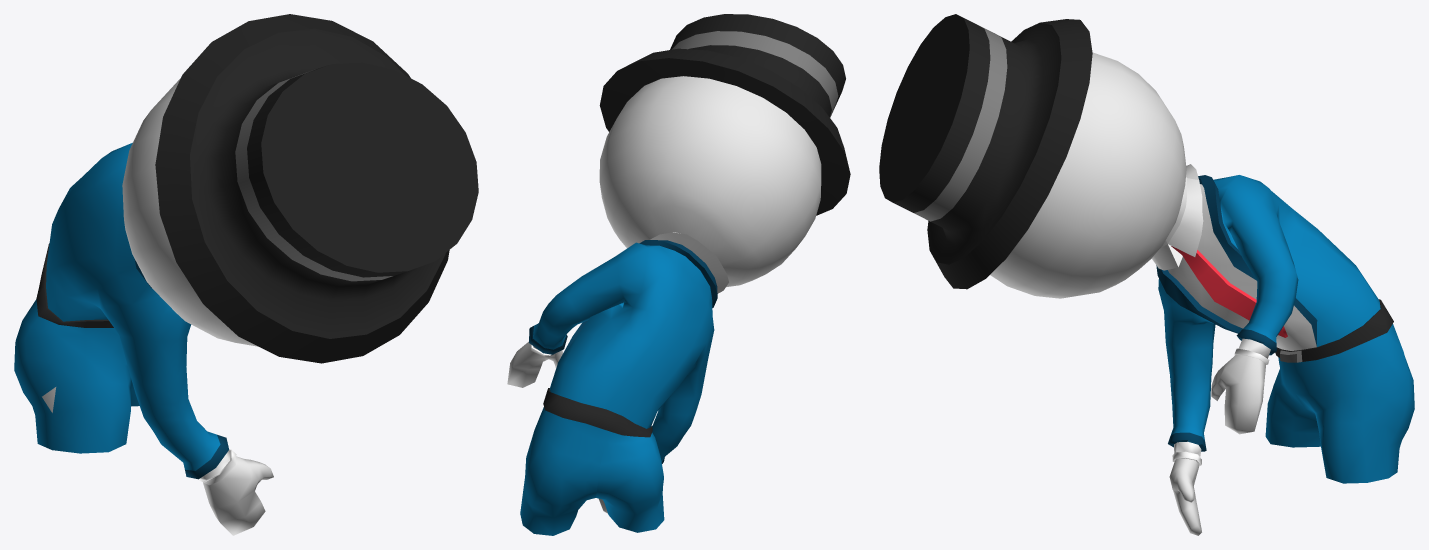
Rendered from busynesman.fbx.
3 renders of one model, left to right at view 1: azimuth 30°, elevation 25°; view 2: azimuth 150°, elevation 25°; view 3: azimuth 270°, elevation 25°, orthographic. The views are drawn at different scales.
Parts seen in each view (by area): view 1: busynessman; view 2: busynessman; view 3: busynessman.
Boxes of the visible parts, x1,y1,x2,y2 form: busynessman: (14, 14, 478, 535); busynessman: (507, 14, 850, 535); busynessman: (879, 14, 1414, 535).
Size of the model in its own units: 109 by 199 by 198.
